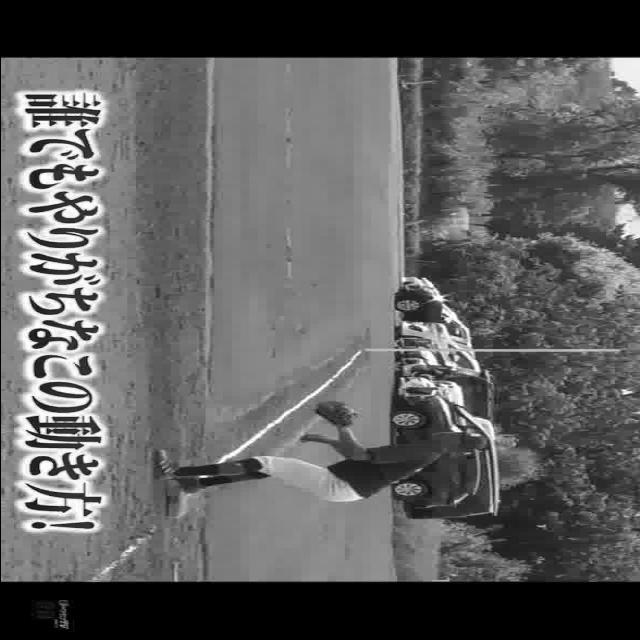base: (159, 473, 189, 519)
baseball_glove: (310, 402, 360, 428)
shoe: (147, 449, 180, 482), (177, 464, 203, 496)
